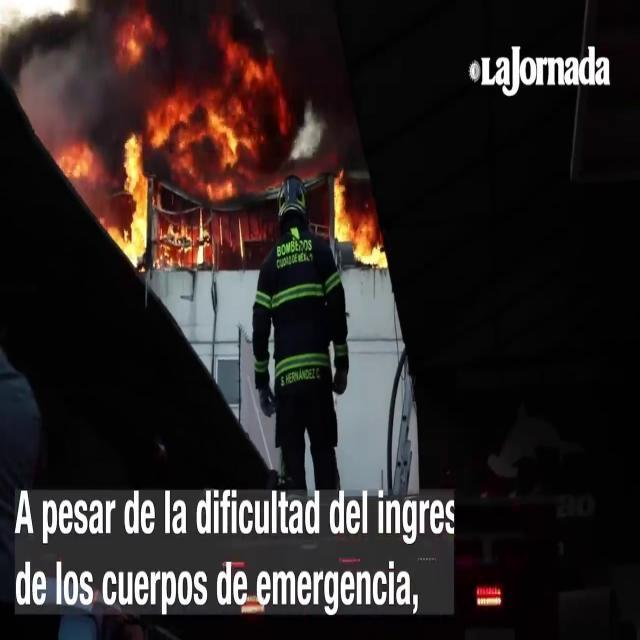Fire: (104, 27, 289, 265), (326, 165, 389, 268)
